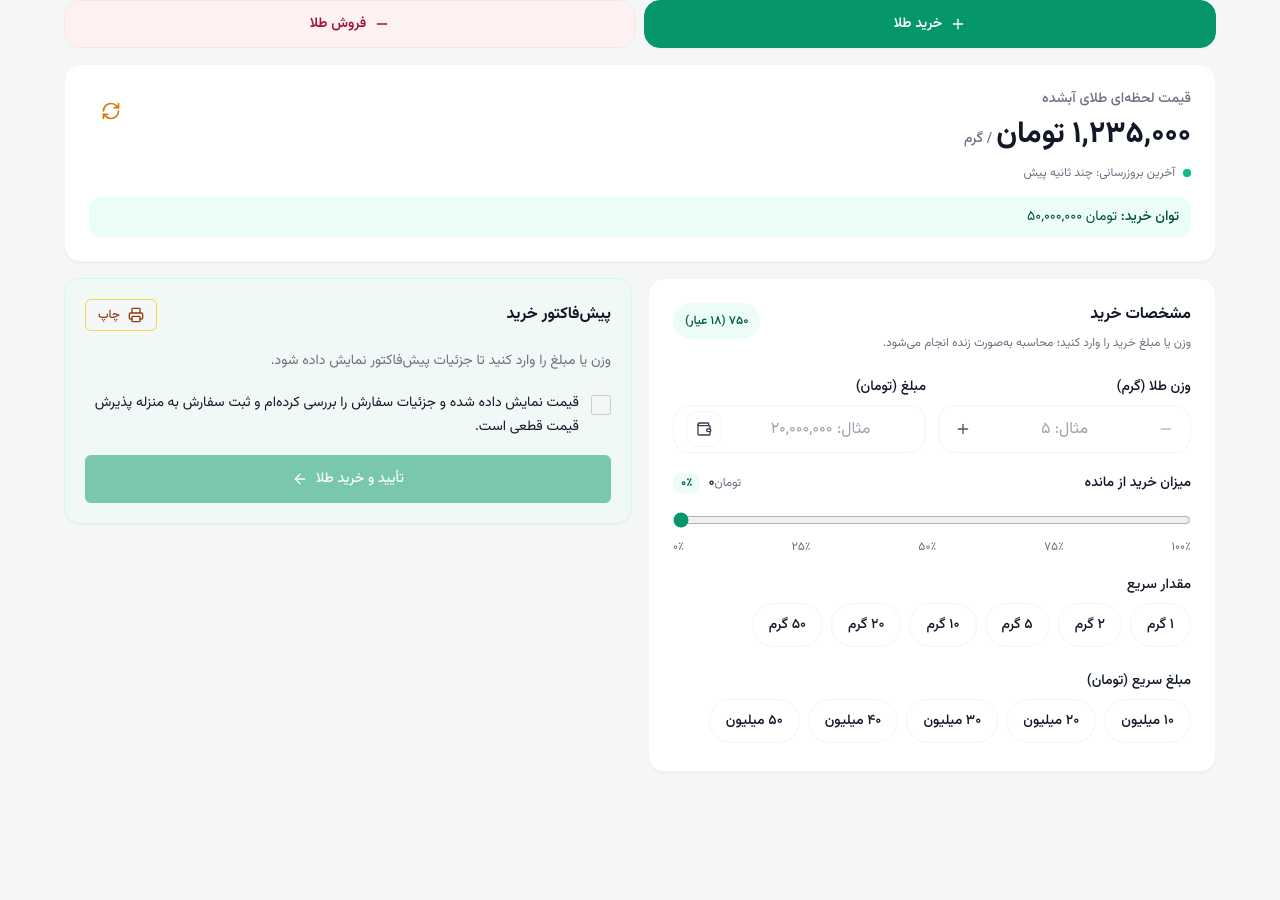
BuyGoldPage › fills the weight that spends the whole rial balance
The width and height of the screenshot is (1280, 900).
Check: the text "قیمت لحظه‌ای طلای آبشده" is shown, box left=1042, top=88, right=1191, bottom=110
Click the button named "خرید با همه دارایی ریالی" at [704, 429], box left=686, top=411, right=722, bottom=447
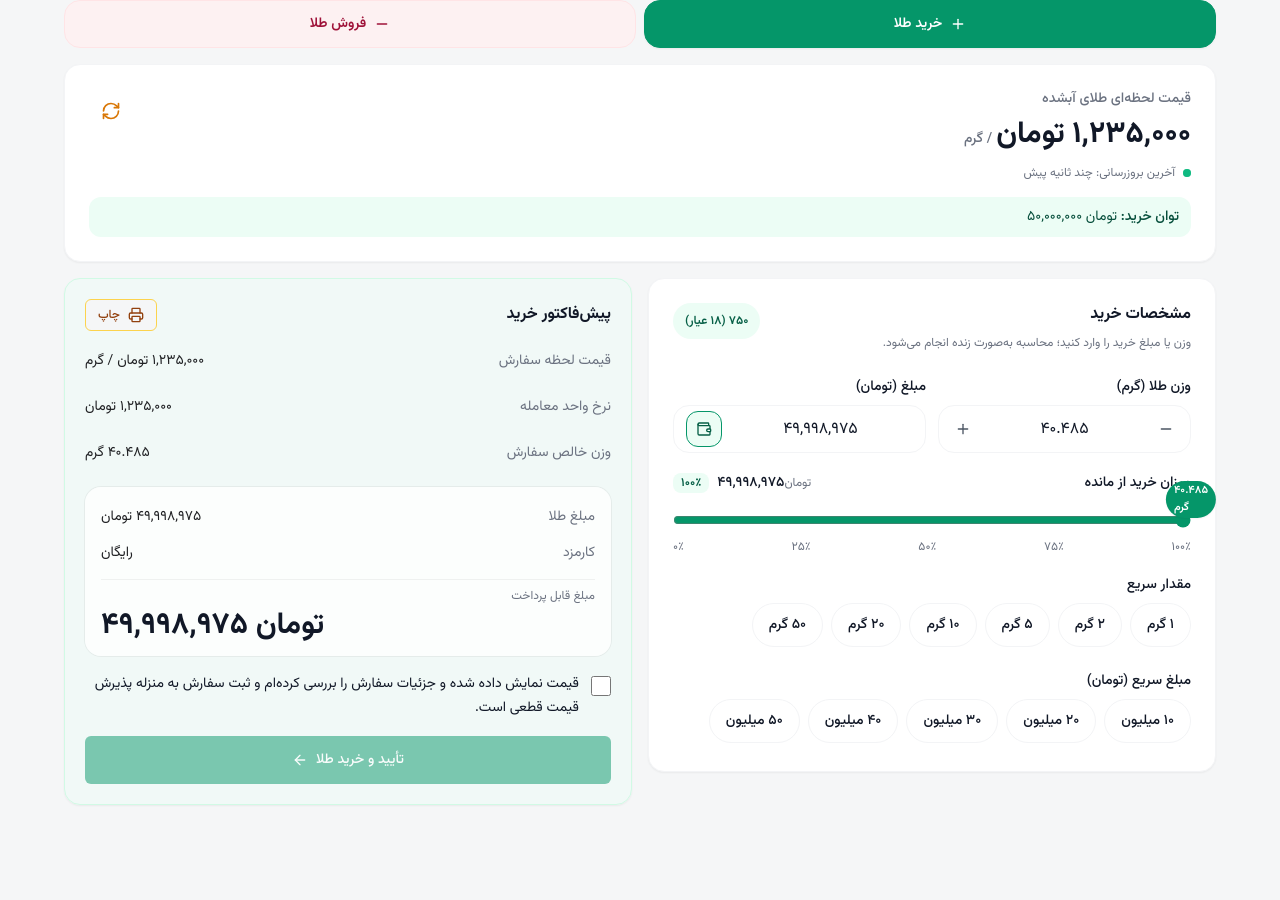
Check: the field showing "۴۰.۴۸۵" is shown, box left=985, top=406, right=1144, bottom=452
Check: the text "مبلغ قابل پرداخت" is shown, box left=511, top=587, right=595, bottom=605
